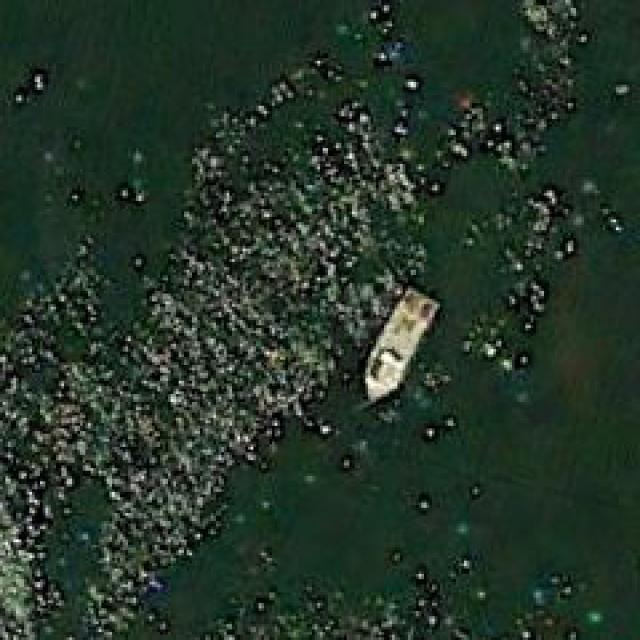boat: (360, 283, 440, 405)
